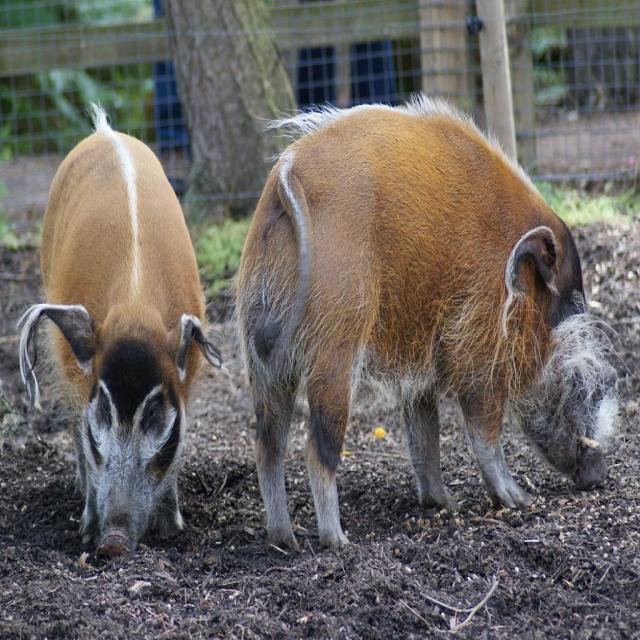Pig: (220, 98, 634, 567), (15, 98, 224, 568)
